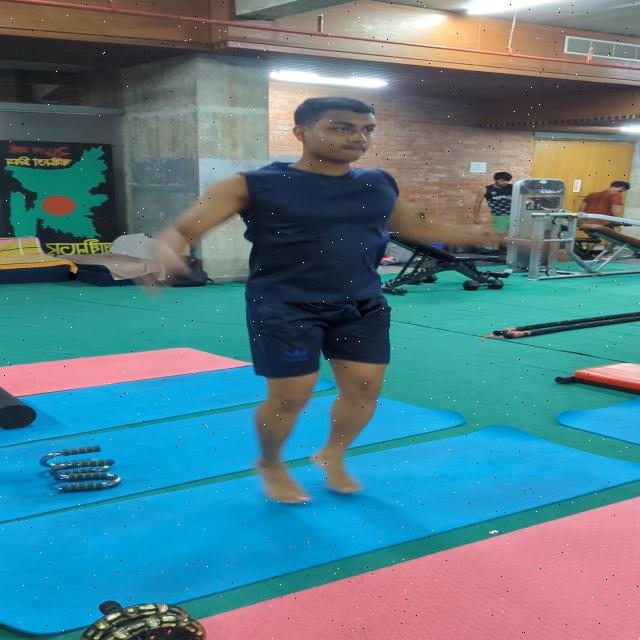Normal_JumpingJacks: (114, 80, 596, 519)
